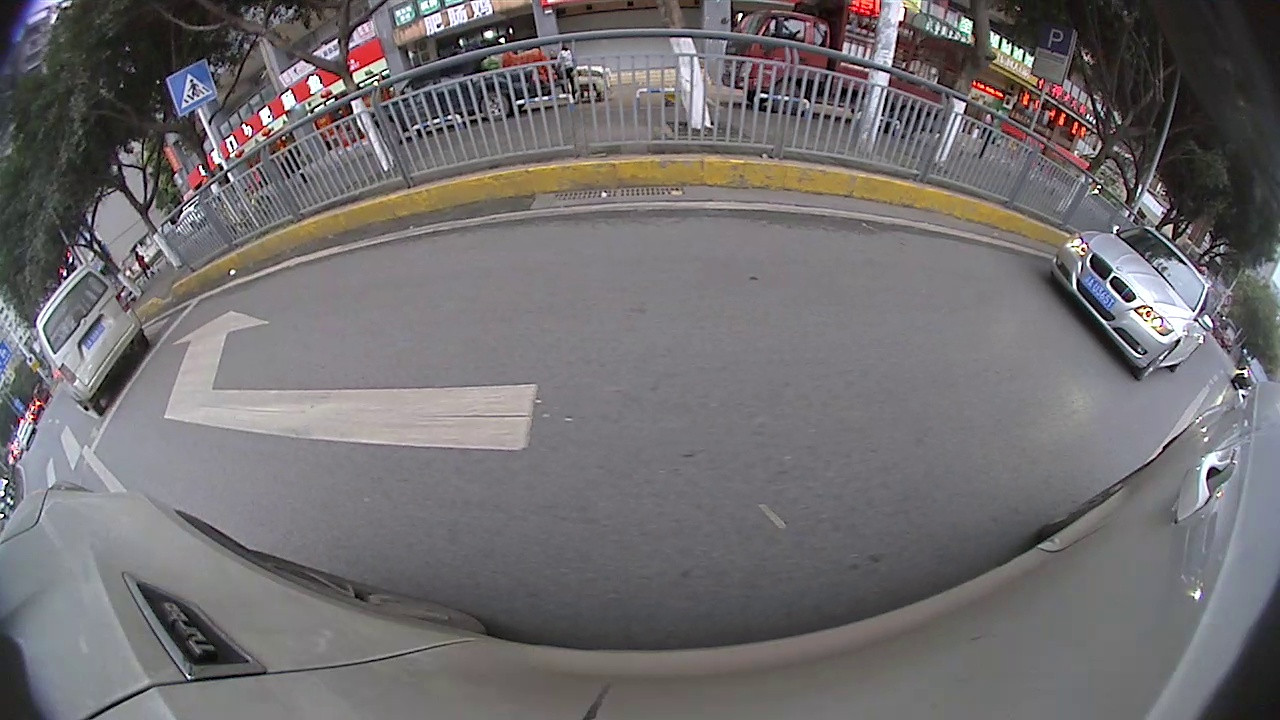car: (1046, 215, 1220, 385), (342, 59, 568, 150), (32, 263, 152, 417)
front: (478, 90, 522, 119)
truck: (720, 5, 992, 136)
